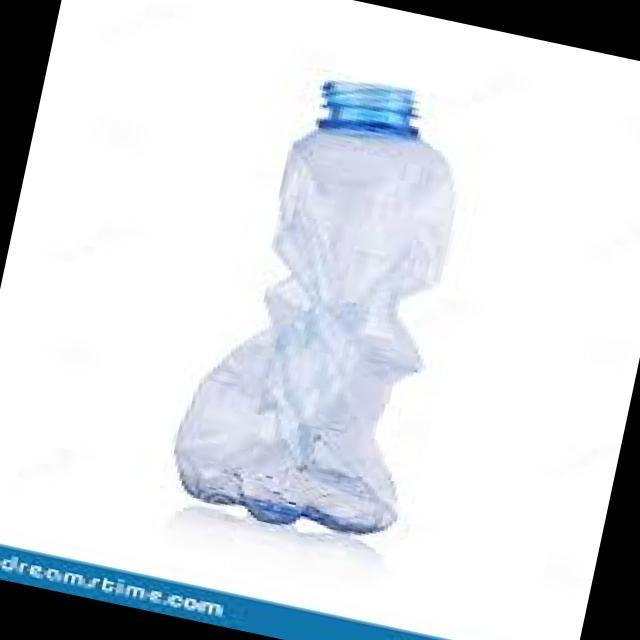defected: (138, 35, 520, 558)
